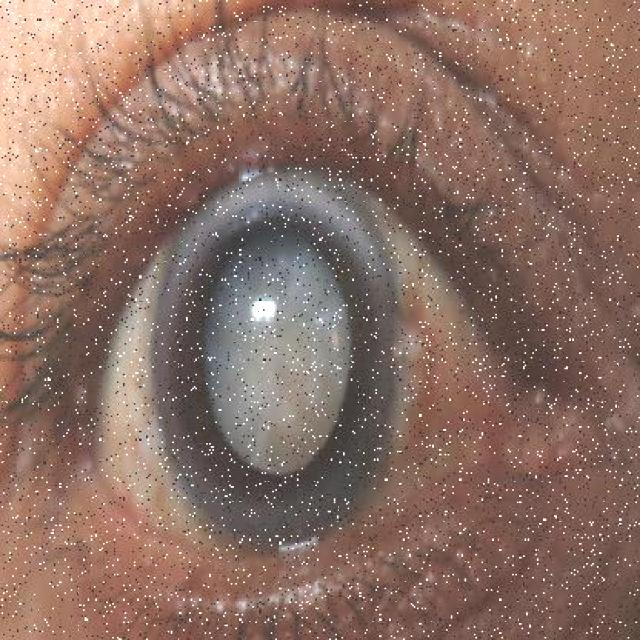Cataract: (121, 148, 422, 568)
